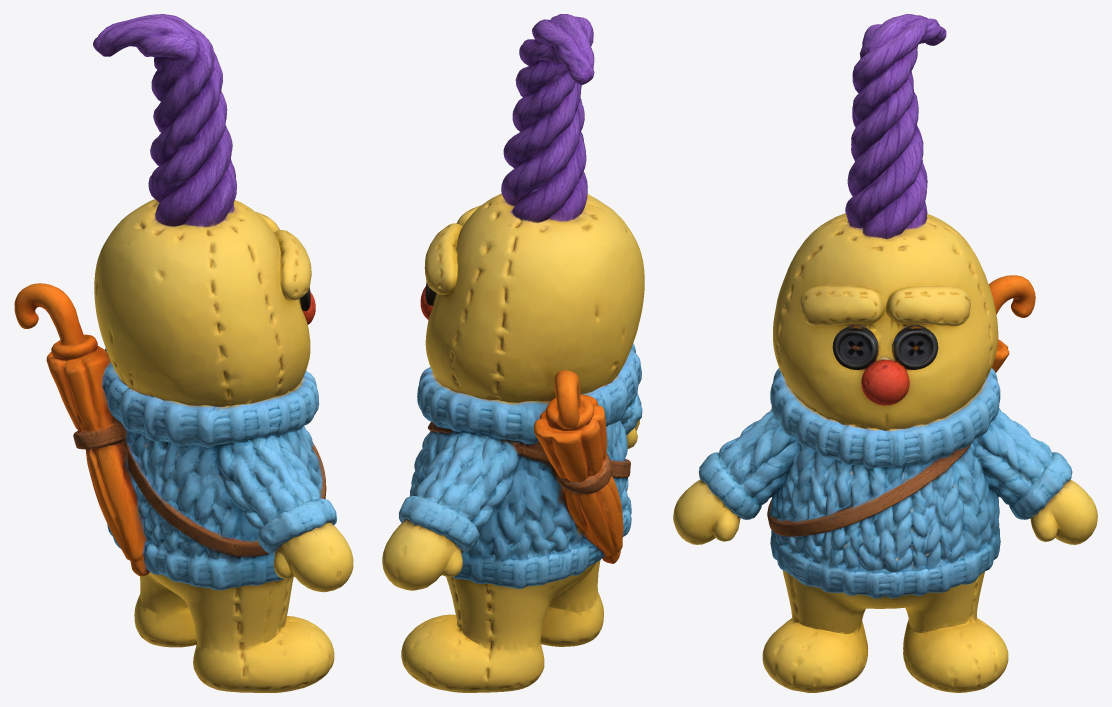
The model's file is troll_b_raw.glb.
3 renders of one model, left to right at view 1: azimuth 30°, elevation 25°; view 2: azimuth 150°, elevation 25°; view 3: azimuth 270°, elevation 25°, orthographic. The views are drawn at different scales.
Visible parts, largest first — view 1: tripo_node_a5e32497-d0fb-4fb7-a234-155c9fc29b80; view 2: tripo_node_a5e32497-d0fb-4fb7-a234-155c9fc29b80; view 3: tripo_node_a5e32497-d0fb-4fb7-a234-155c9fc29b80.
Part boxes in pixels (x1=…): tripo_node_a5e32497-d0fb-4fb7-a234-155c9fc29b80: x1=14, y1=14, x2=353, y2=692; tripo_node_a5e32497-d0fb-4fb7-a234-155c9fc29b80: x1=382, y1=14, x2=644, y2=692; tripo_node_a5e32497-d0fb-4fb7-a234-155c9fc29b80: x1=673, y1=14, x2=1097, y2=692.
Size of the model in its own units: 0.361 by 1 by 0.6173.
Materials: 1 (1 with a texture image).
